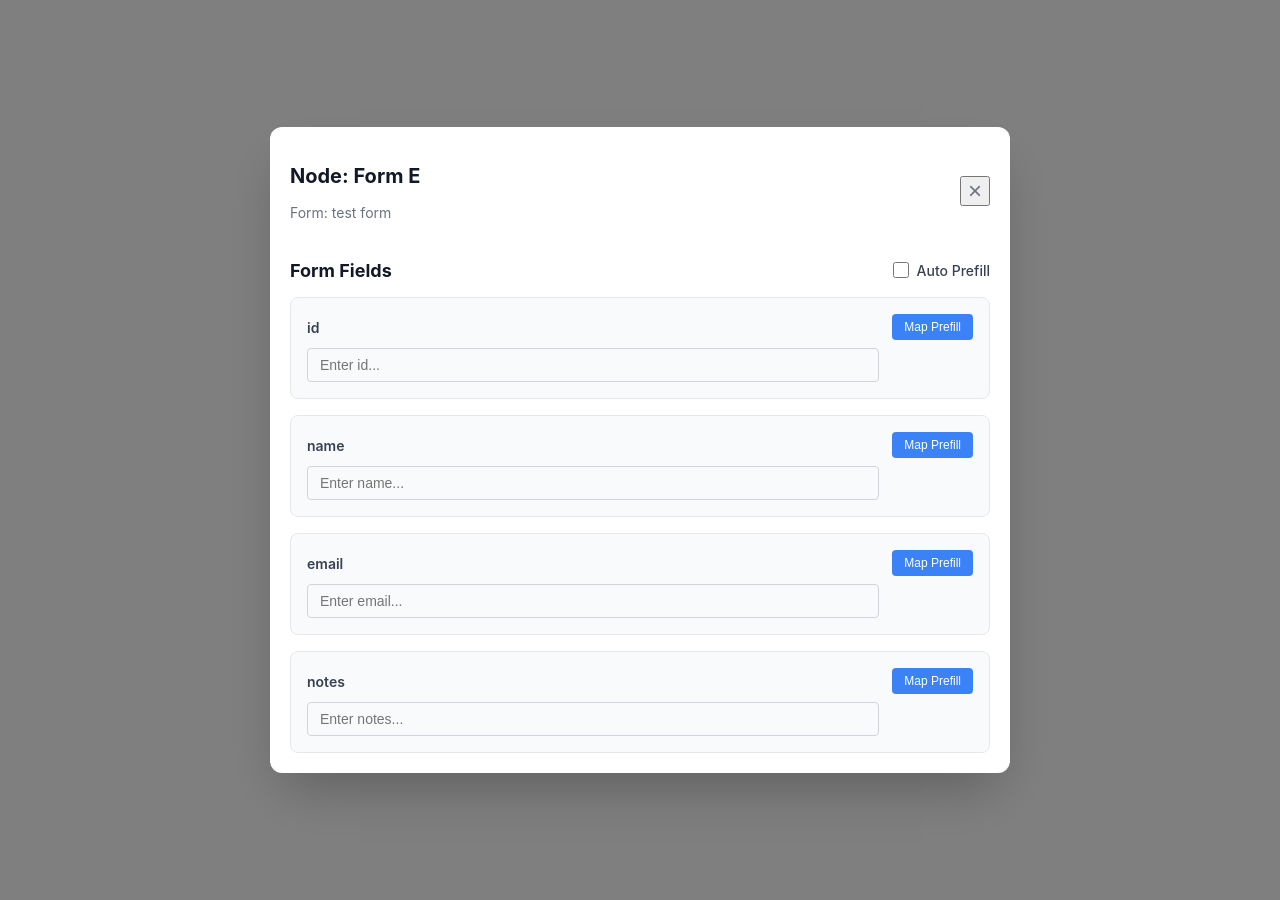
Test: PrefillUI Component › Prefill Modal › closes modal when close button is clicked
The width and height of the screenshot is (1280, 900).
Click the button "Map Prefill" in the row of "id".
click(933, 327)  # box [892,314,973,340]
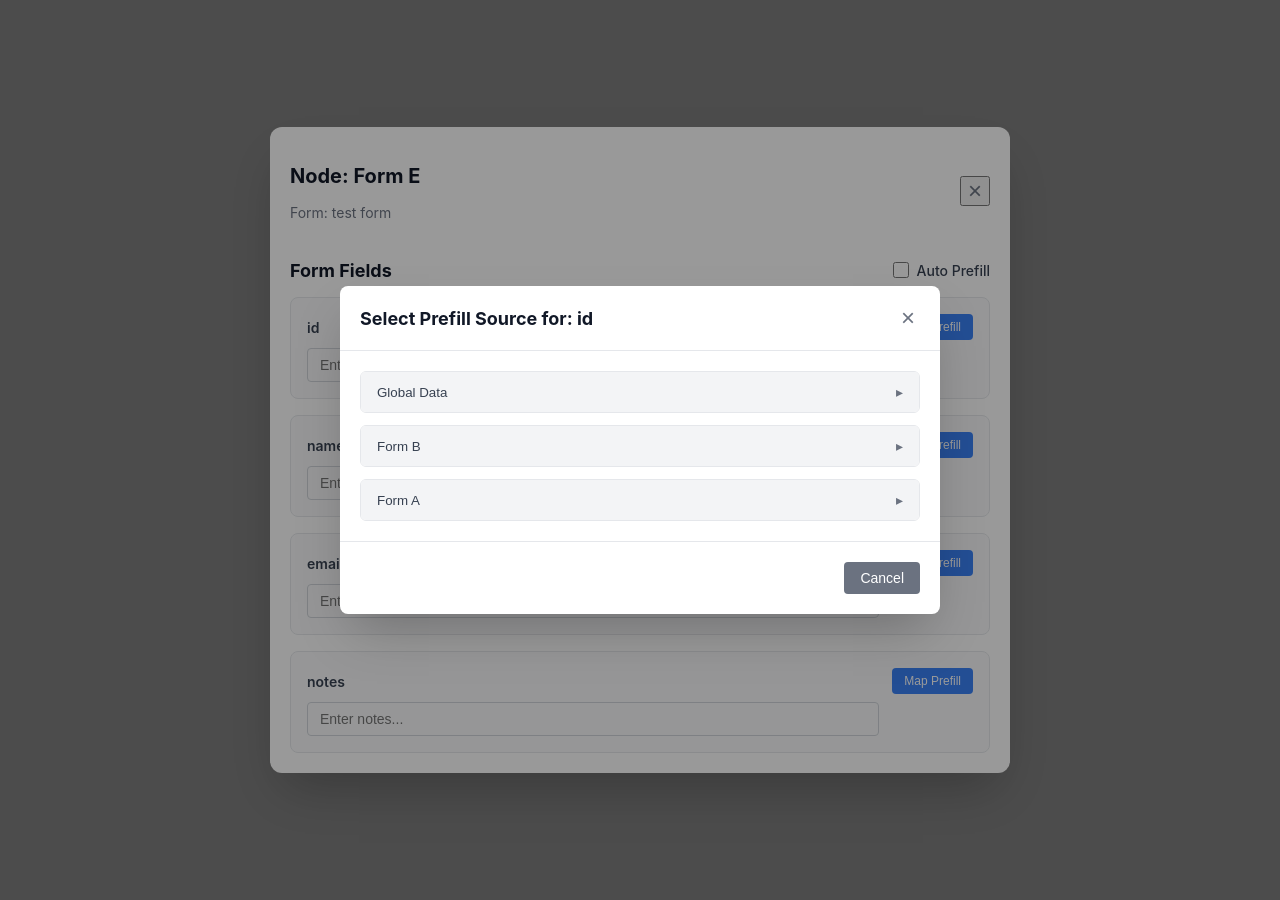
Note: Target the specific close button in the prefill modal by using getAllByRole
Click the button "×".
click(908, 318)  # box [896,306,920,330]
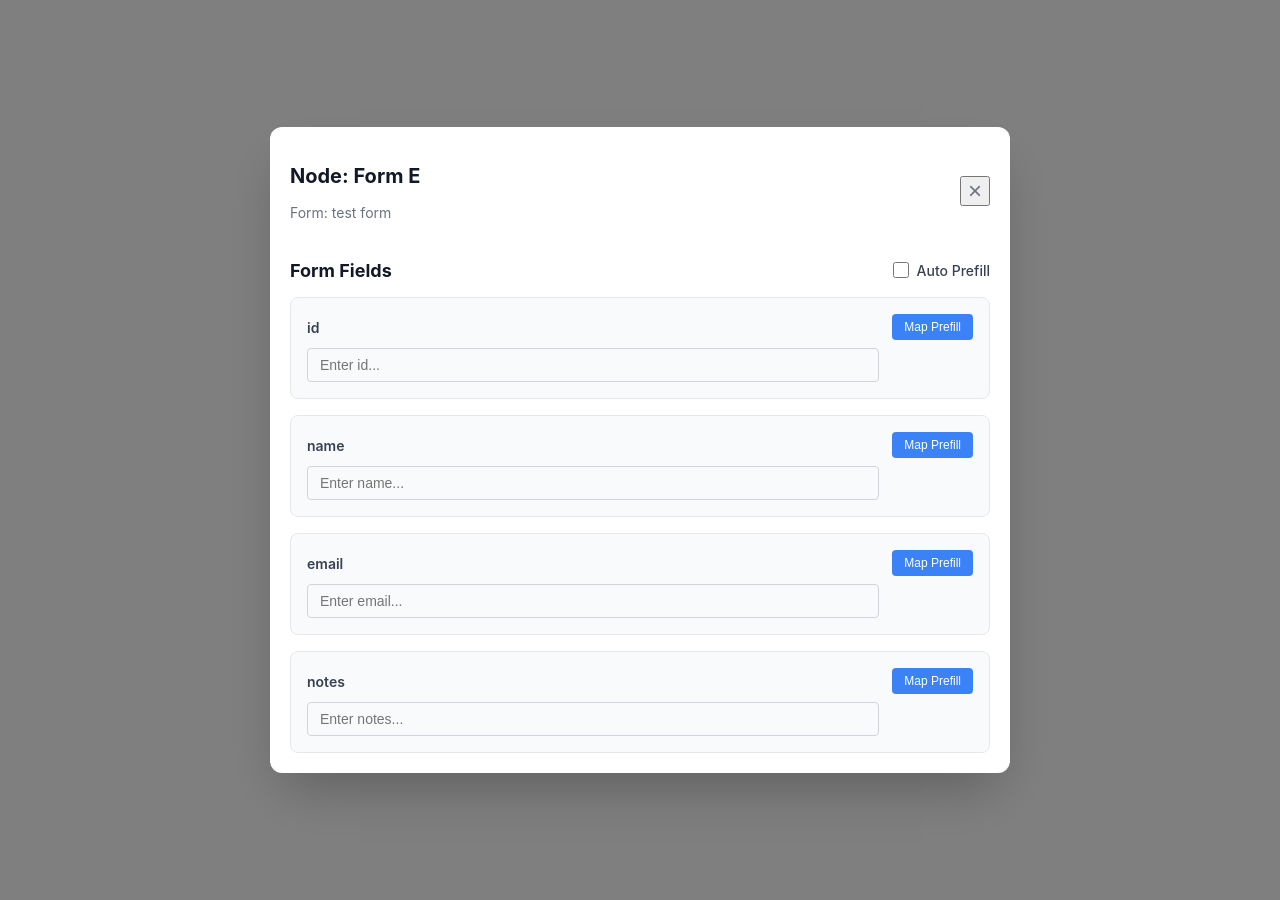
Expected: the heading "Select Prefill Source for: id" is gone
